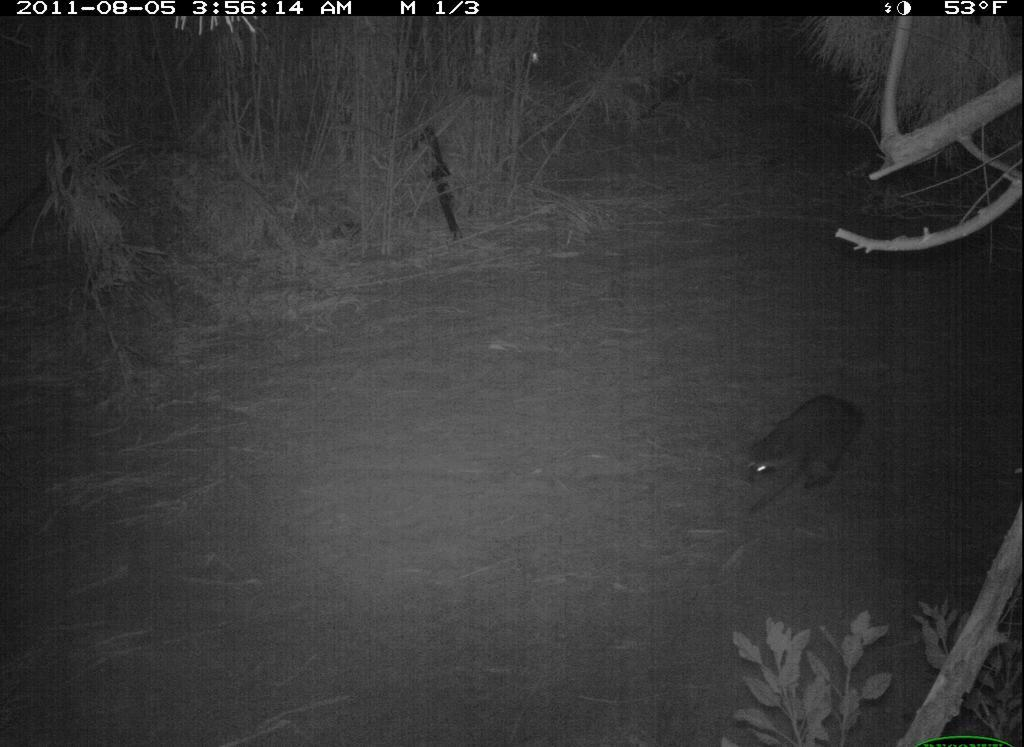raccoon: (721, 382, 886, 527)
